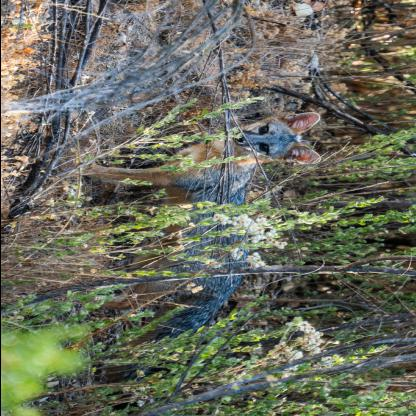zorro: (68, 106, 330, 348)
